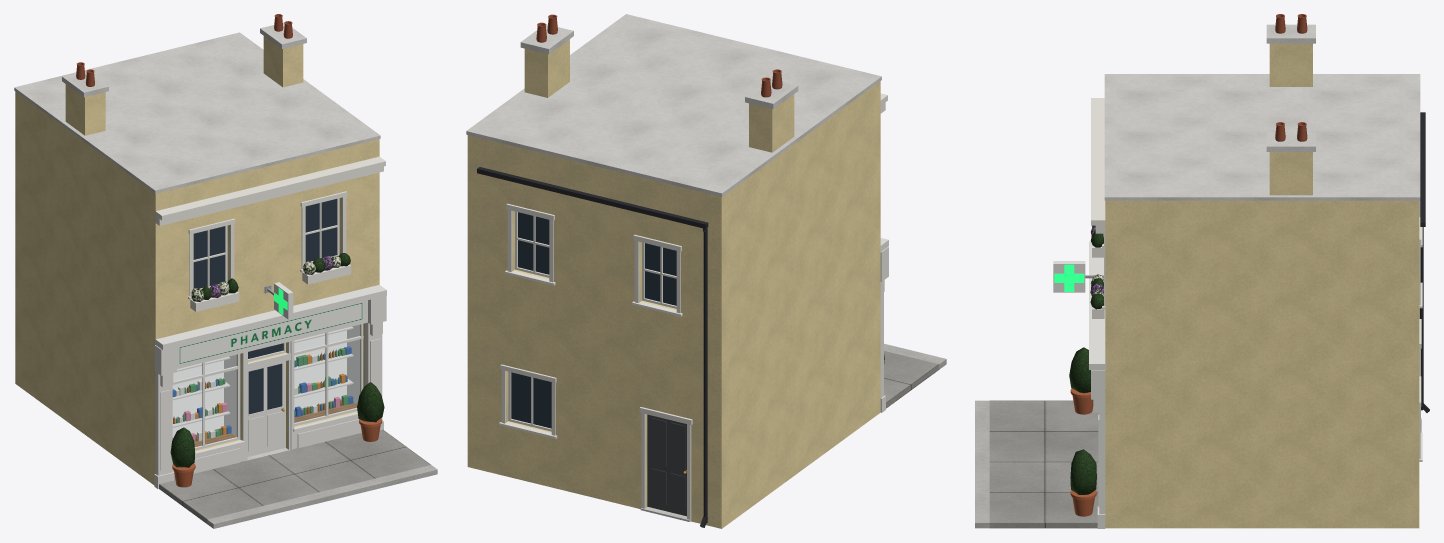
Rendered from pharmacy.glb.
3 renders of one model, left to right at view 1: azimuth 30°, elevation 25°; view 2: azimuth 150°, elevation 25°; view 3: azimuth 270°, elevation 25°, orthographic. The views are drawn at different scales.
Parts seen in each view (by area): view 1: Pharmacy; view 2: Pharmacy; view 3: Pharmacy.
Part boxes in pixels (x1,y1,x2,y2): Pharmacy: [14, 14, 437, 528]; Pharmacy: [466, 14, 946, 528]; Pharmacy: [975, 14, 1429, 528].
Size of the model in its own units: 6.06 by 9.08 by 9.42.
Materials: 32 (11 with a texture image).
